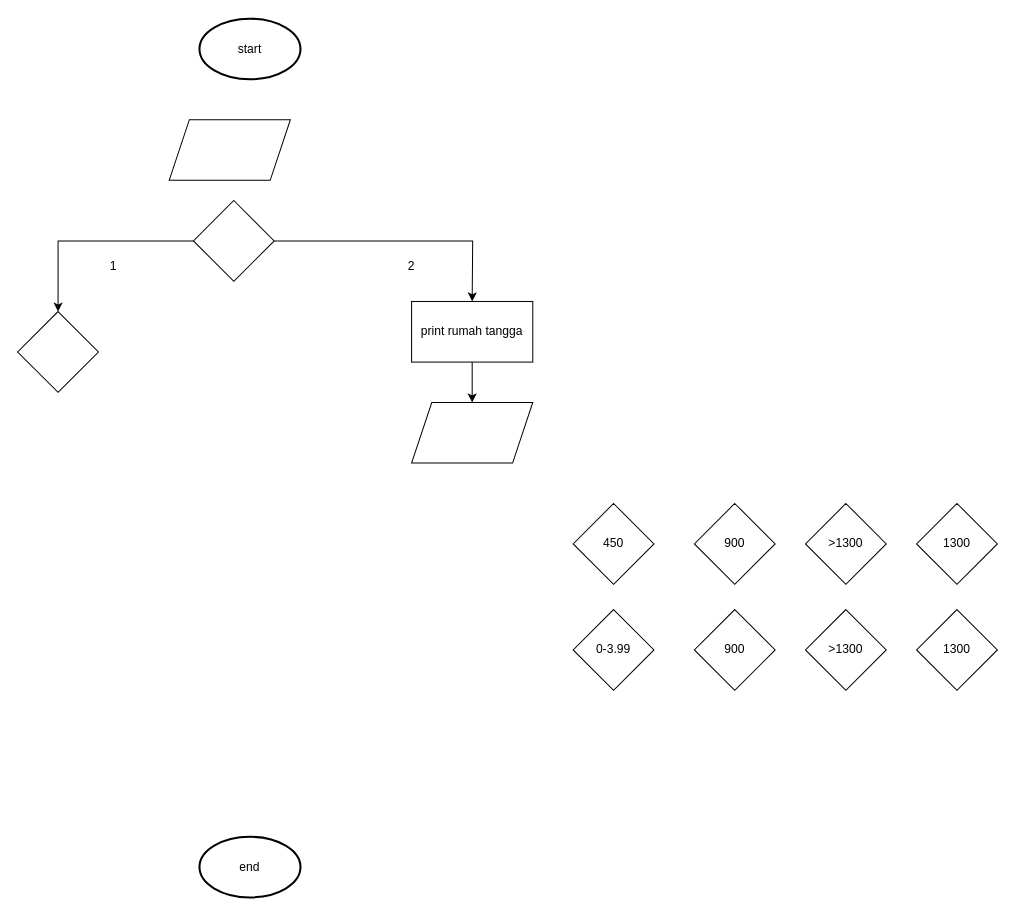
Image size: 1015x915. Some labels were removed from this diagram. The shapes that lost their labels are listed below. From the top down, each one's box as (x1, y1, x2, y2) in pixels, then its label:
(168, 119, 290, 180): input jenis
(192, 199, 274, 281): input
(411, 401, 533, 463): masukkan penggunaan listrik
